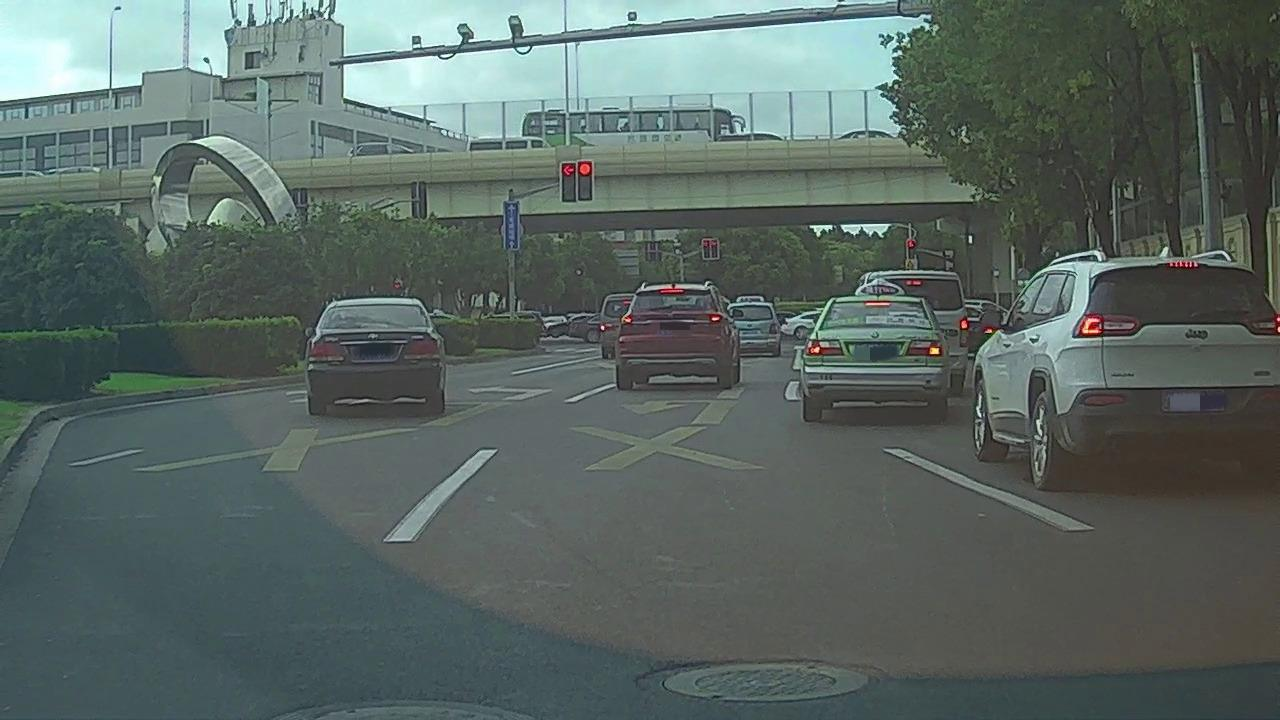traffic_light: (561, 163, 575, 202), (578, 162, 592, 200), (710, 240, 718, 258), (703, 239, 710, 259)
